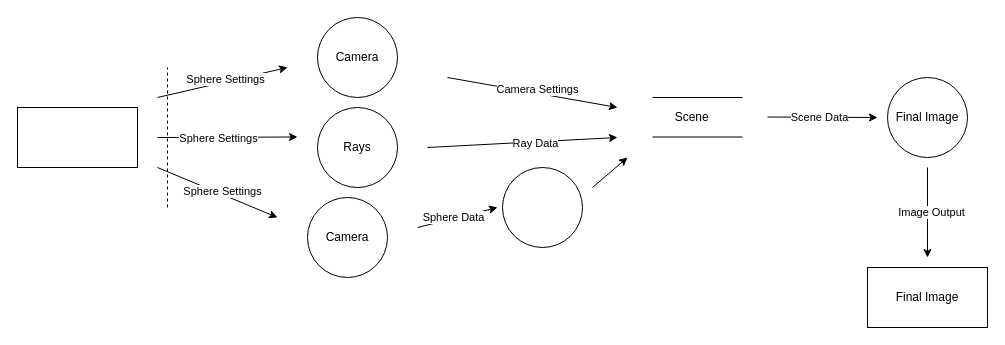
This 1005x345 diagram has some shape labels left out. Each missing label, with the box of its shape:
SphereList: (502, 166, 582, 248)
User Input: (16, 106, 138, 168)
